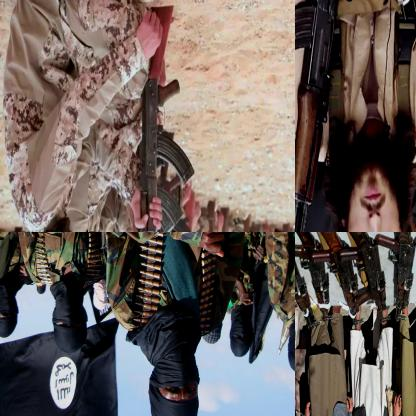rifle: (295, 0, 356, 231), (137, 5, 198, 231), (335, 232, 393, 328), (308, 232, 364, 328), (295, 232, 337, 325), (375, 232, 415, 325), (205, 201, 227, 231)
